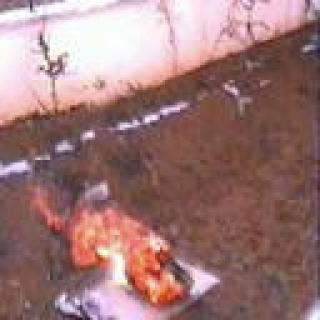fire: (31, 185, 202, 308)
